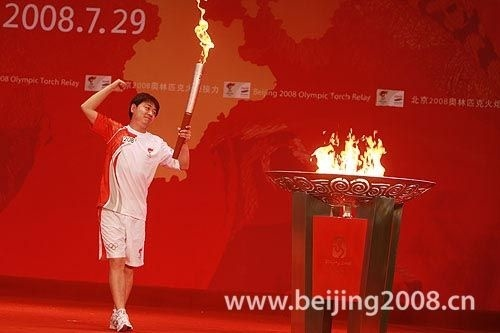fire: (311, 129, 388, 175), (193, 10, 215, 59)
